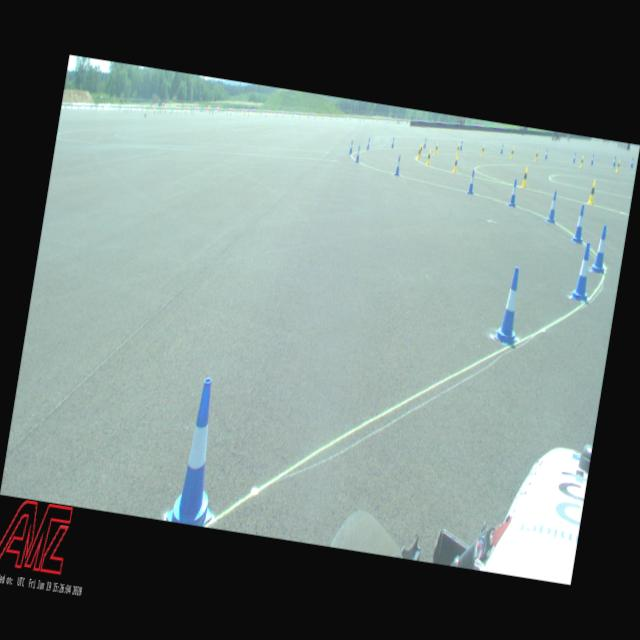blue_cone: (166, 377, 233, 528), (492, 264, 528, 346), (572, 242, 596, 302), (590, 224, 612, 274), (570, 203, 590, 244), (546, 190, 560, 224), (508, 178, 520, 207), (466, 169, 476, 194), (394, 154, 403, 177), (356, 146, 362, 162), (349, 140, 354, 154), (590, 154, 595, 166), (366, 138, 371, 150), (422, 138, 428, 148), (459, 140, 464, 151), (545, 148, 549, 160), (391, 136, 395, 148), (572, 152, 576, 163), (613, 156, 617, 167), (500, 144, 504, 154), (630, 158, 634, 168)
yellow_cone: (588, 180, 598, 206), (522, 167, 530, 189), (452, 155, 460, 173), (426, 149, 432, 166), (616, 159, 622, 173), (534, 150, 540, 162), (417, 146, 422, 160), (419, 144, 424, 158), (434, 142, 439, 155), (580, 156, 584, 168), (481, 144, 485, 156), (456, 143, 460, 155), (510, 147, 514, 159)
